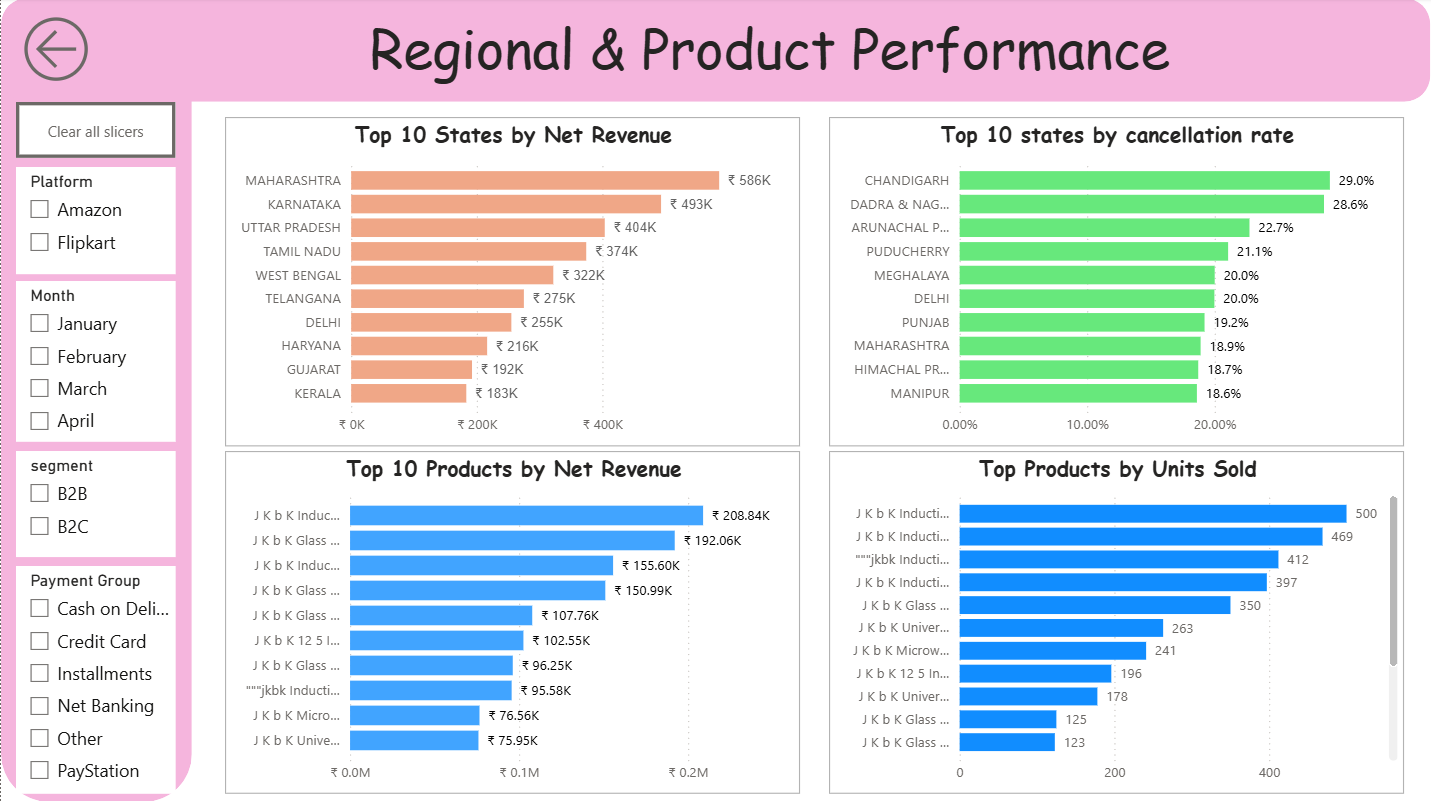

What the dashboard file says about the page in this screenshot:
{"tool":"powerbi","page":{"name":"Regional & Product Performance","canvas":[1280,720],"ordinal":2},"visuals":[{"type":"shape","box":[0,0,170.9,720],"z":0},{"type":"shape","box":[0,0,1280,93],"z":1000},{"type":"slicer","fields":{"Values":["unified_sales.platform"]},"box":[13.6,150.9,142.7,96.4],"z":2000},{"type":"slicer","fields":{"Values":["unified_sales.month"]},"box":[13.6,253.6,142.7,143.6],"z":3000},{"type":"actionButton","box":[13.6,92.7,142.7,50],"z":4000},{"type":"textbox","box":[325.5,5.5,797.3,80.9],"z":5000},{"type":"slicer","fields":{"Values":["unified_sales.segment"]},"box":[13.6,405.5,142.7,95.5],"z":6000},{"type":"actionButton","box":[13.6,10,130.9,71.8],"z":7000},{"type":"barChart","title":"Top 10 States by Net Revenue","fields":{"Category":["unified_sales.ship_to_state"],"Y":["unified_sales.Net Revenue"]},"box":[200.9,106.4,514.5,294.5],"z":8000},{"type":"barChart","title":"Top 10 states by cancellation rate","fields":{"Category":["unified_sales.ship_to_state"],"Y":["unified_sales.Cancel Rate %"]},"box":[741.8,106.4,514.5,294.5],"z":9000},{"type":"barChart","title":"Top 10 Products by Net Revenue","fields":{"Category":["unified_sales.item_description"],"Y":["unified_sales.Net Revenue"]},"box":[200.9,405.5,515.5,307.3],"z":10000},{"type":"barChart","title":"Top Products by Units Sold","fields":{"Category":["unified_sales.item_description"],"Y":["Sum(unified_sales.quantity)"]},"box":[741.8,405.5,515.5,307.3],"z":11000},{"type":"slicer","fields":{"Values":["unified_sales.Payment Group"]},"box":[13.6,509.1,142.7,203.6],"z":12000}]}

Visuals, with their boxes in screenshot pixels (x1, y1, x2, y2), scaled from the page's 1280x720 canvas onto the 1431x801 screenshot:
shape: [0,0,191,800]
shape: [0,0,1430,103]
slicer - unified_sales.platform: [15,168,175,275]
slicer - unified_sales.month: [15,282,175,442]
actionButton: [15,103,175,159]
textbox: [364,6,1255,96]
slicer - unified_sales.segment: [15,451,175,557]
actionButton: [15,11,162,91]
"Top 10 States by Net Revenue" barChart: [225,118,800,446]
"Top 10 states by cancellation rate" barChart: [829,118,1405,446]
"Top 10 Products by Net Revenue" barChart: [225,451,801,793]
"Top Products by Units Sold" barChart: [829,451,1406,793]
slicer - unified_sales.Payment Group: [15,566,175,793]
